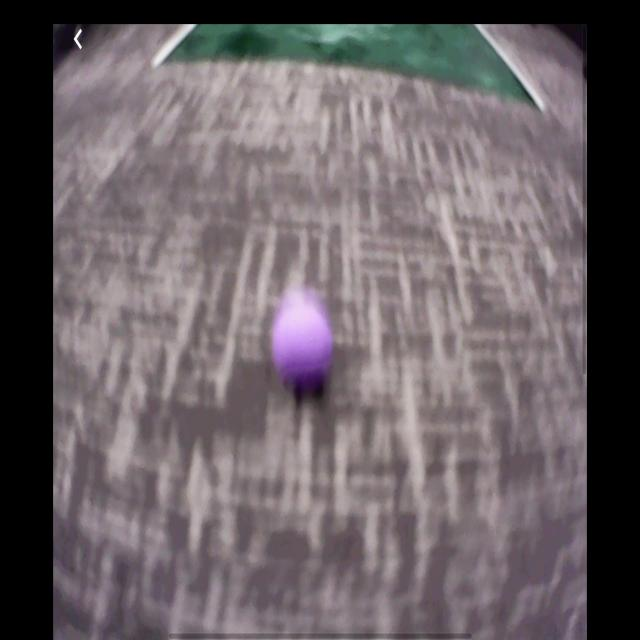ball: (271, 300, 328, 388)
